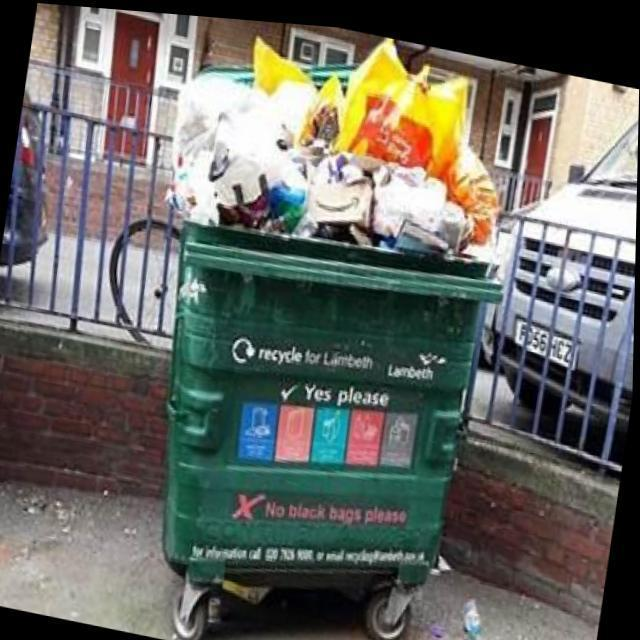Garbage: (167, 32, 499, 249)
Plastic_Bag: (337, 31, 498, 233), (167, 66, 318, 229), (252, 32, 310, 90), (302, 68, 344, 138)
